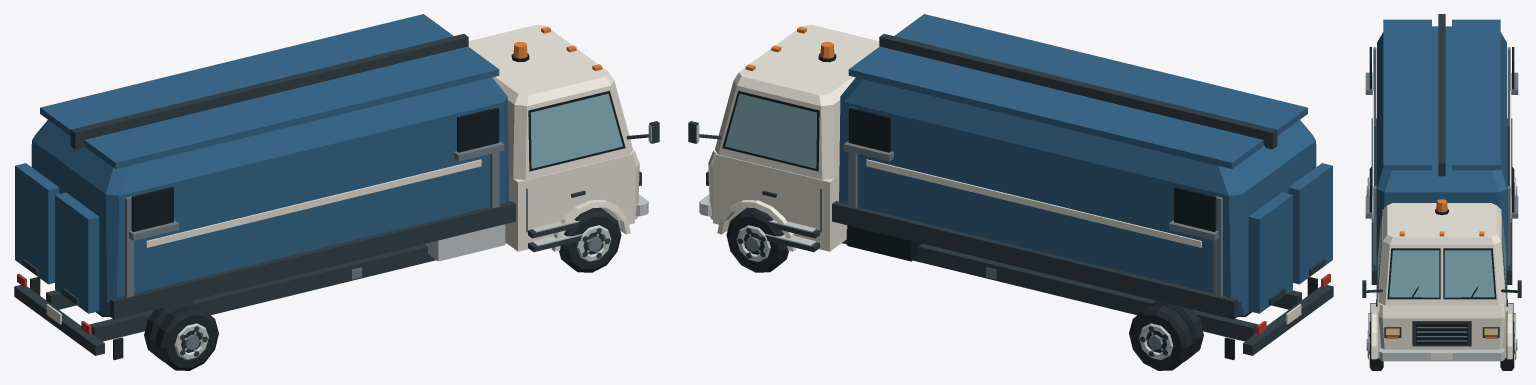
The model's file is b15_split_body_recycling_truck.glb.
3 renders of one model, left to right at view 1: azimuth 30°, elevation 25°; view 2: azimuth 150°, elevation 25°; view 3: azimuth 270°, elevation 25°, orthographic. The views are drawn at different scales.
Parts seen in each view (by area): view 1: b15_split_body_recycling_truck; view 2: b15_split_body_recycling_truck; view 3: b15_split_body_recycling_truck.
Boxes of the visible parts, <box> form: b15_split_body_recycling_truck: <box>14,14,659,370</box>; b15_split_body_recycling_truck: <box>688,14,1333,370</box>; b15_split_body_recycling_truck: <box>1362,14,1521,370</box>.
Bounding box in the file's own units: 9.23 × 3.52 × 2.91.
